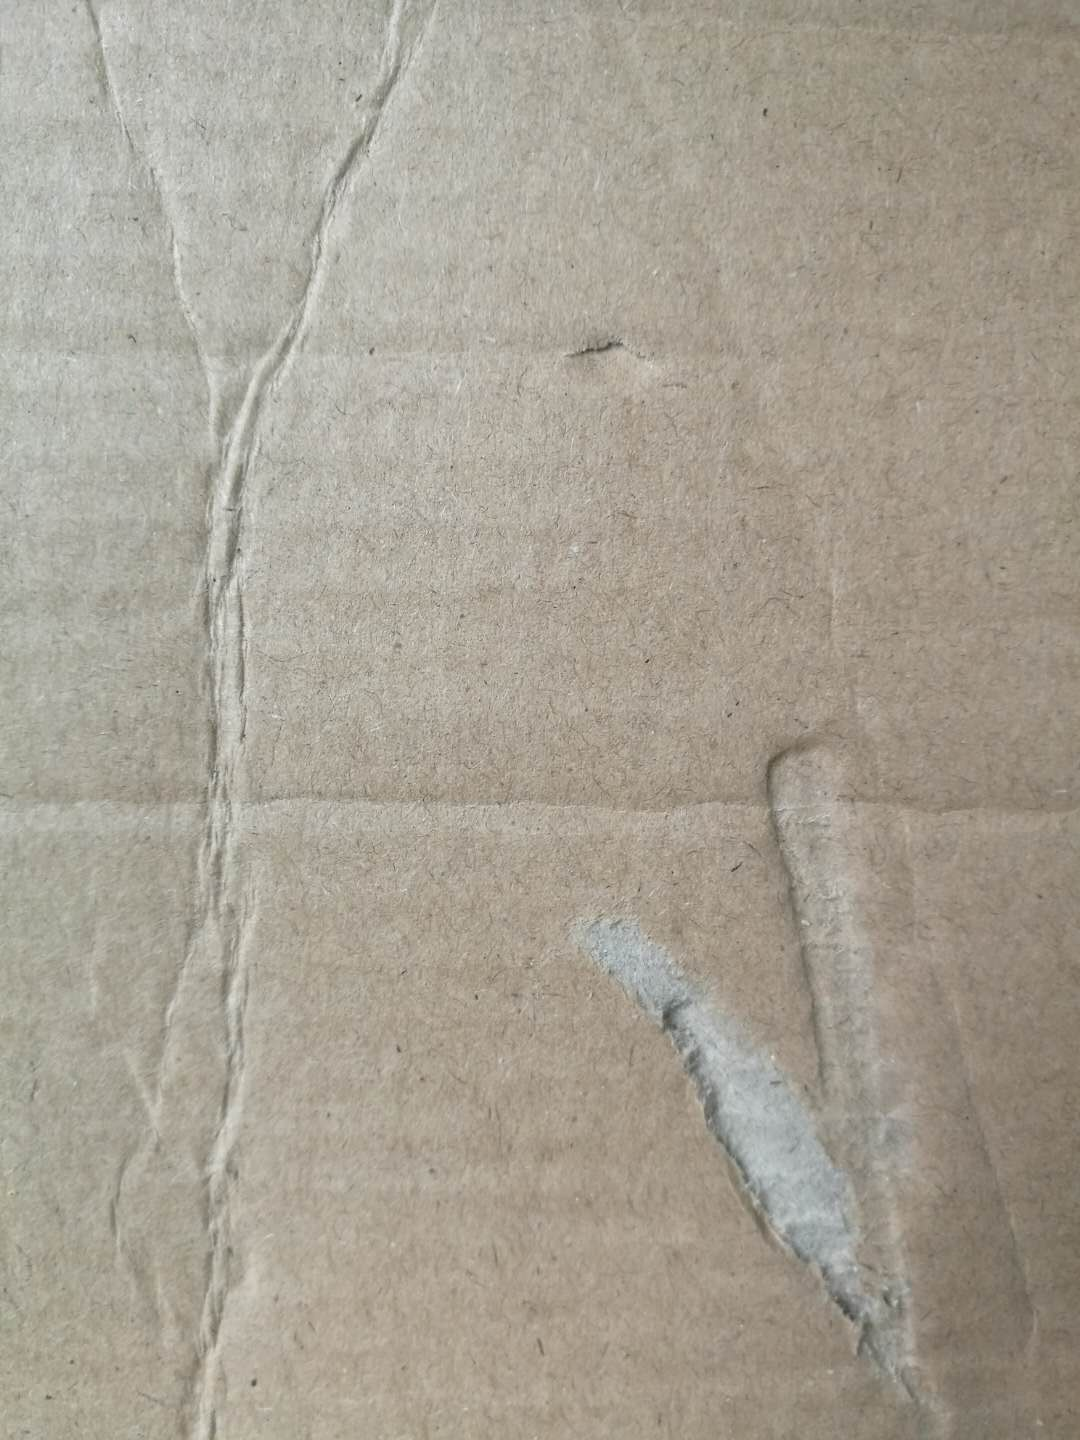defect: (42, 2, 473, 1440), (555, 715, 1006, 1435), (2, 738, 1080, 895), (1, 278, 522, 396), (539, 310, 680, 407)
